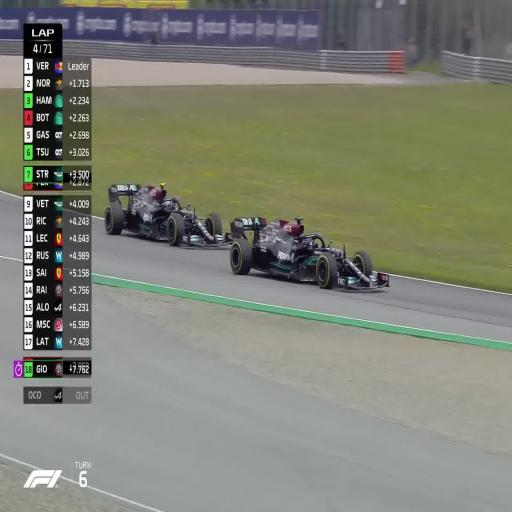f1_car: (230, 217, 389, 289), (104, 183, 231, 246)
